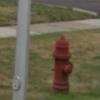a fire hydrant: (52, 38, 73, 92)
